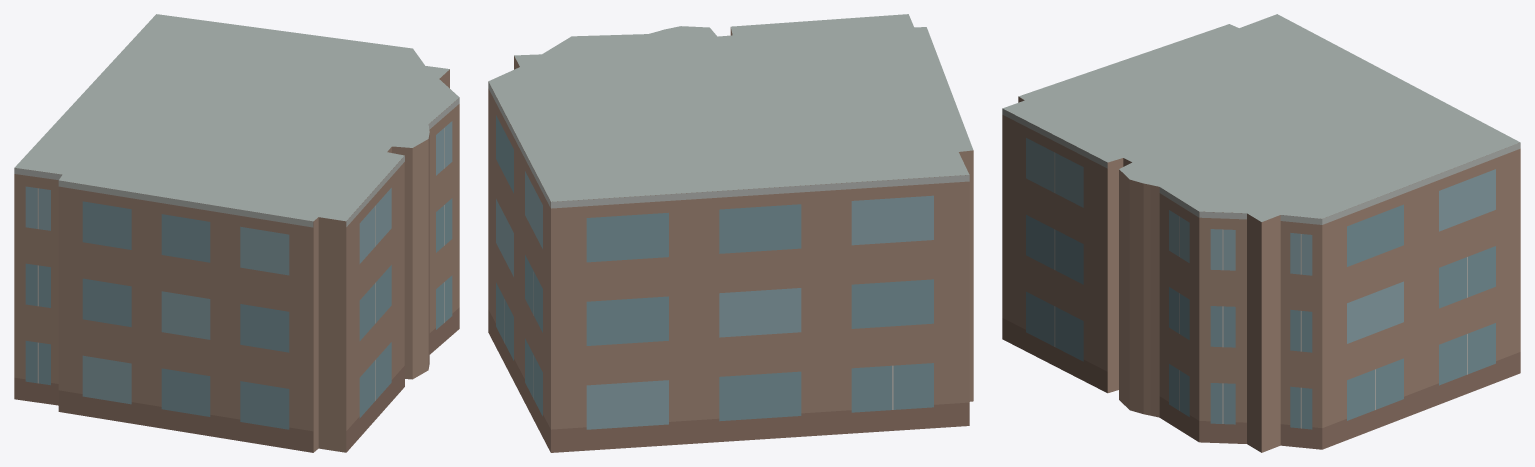
Rendered from survey-upis-32965023.glb.
The picture shows the model from 3 angles, left to right: view 1: azimuth 30°, elevation 25°; view 2: azimuth 150°, elevation 25°; view 3: azimuth 270°, elevation 25°; orthographic projection. The views are drawn at different scales.
Visible parts, largest first — view 1: survey-upis-32965023.tmp; view 2: survey-upis-32965023.tmp; view 3: survey-upis-32965023.tmp.
Part boxes in pixels (bbox=[...]): survey-upis-32965023.tmp: bbox=[14, 14, 459, 452]; survey-upis-32965023.tmp: bbox=[488, 14, 973, 452]; survey-upis-32965023.tmp: bbox=[1002, 14, 1520, 452].
Size of the model in its own units: 17.71 by 9.15 by 18.63.
